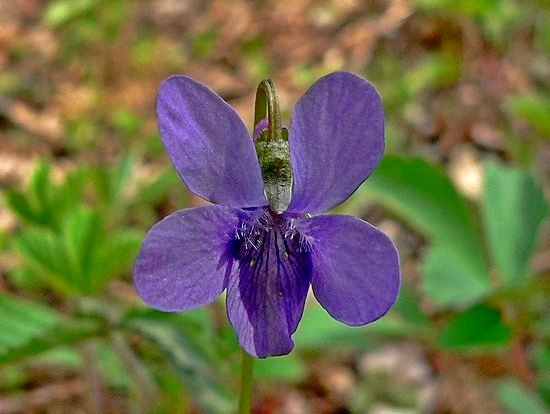violet: (130, 67, 410, 349)
